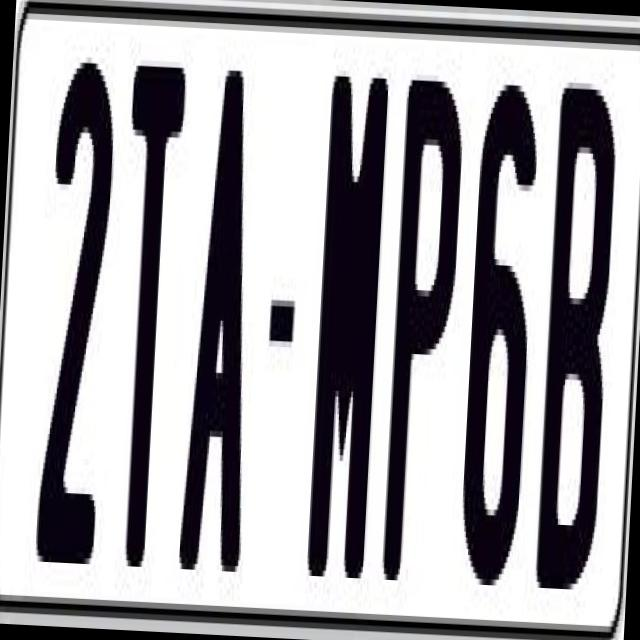2: (29, 61, 120, 576)
6: (456, 78, 540, 616)
A: (174, 58, 266, 578)
B: (530, 87, 624, 608)
M: (302, 63, 396, 602)
P: (376, 80, 467, 618)
T: (108, 48, 196, 562)
